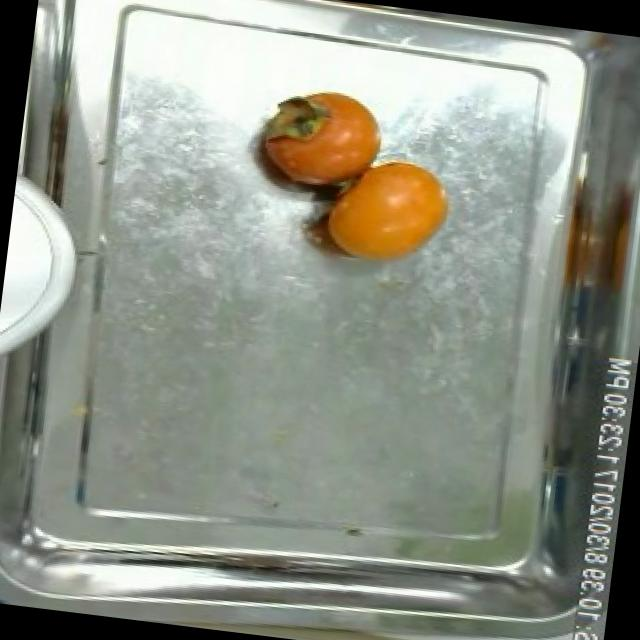Fruit: (243, 75, 398, 209), (317, 144, 467, 280)
